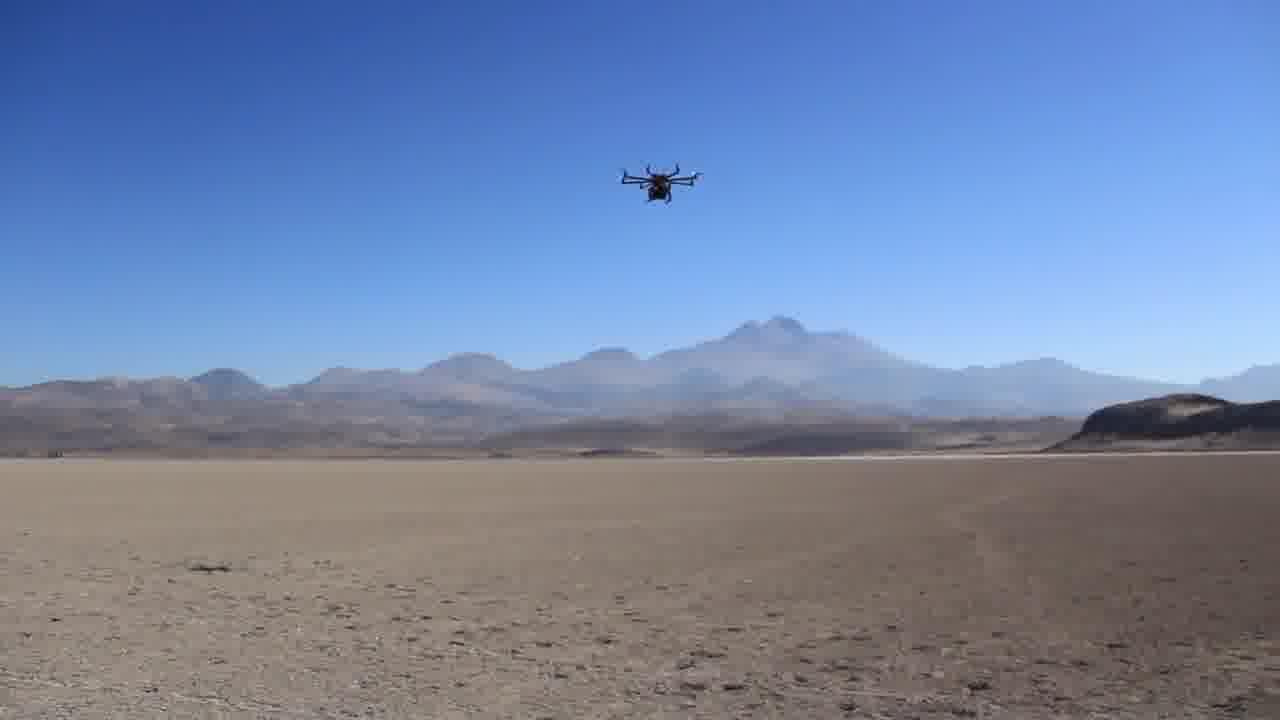drone: (611, 150, 704, 208)
